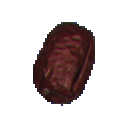ng: (27, 17, 105, 112)
